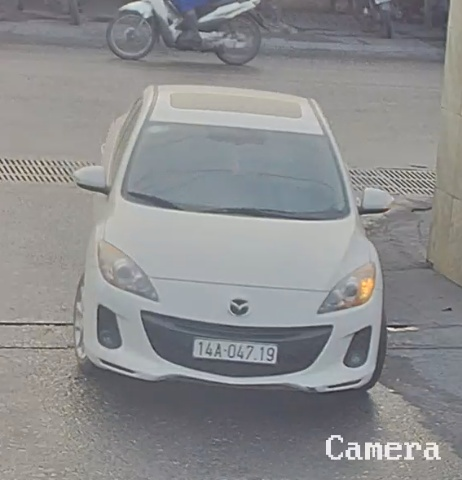vehicle plate: (189, 332, 280, 368)
